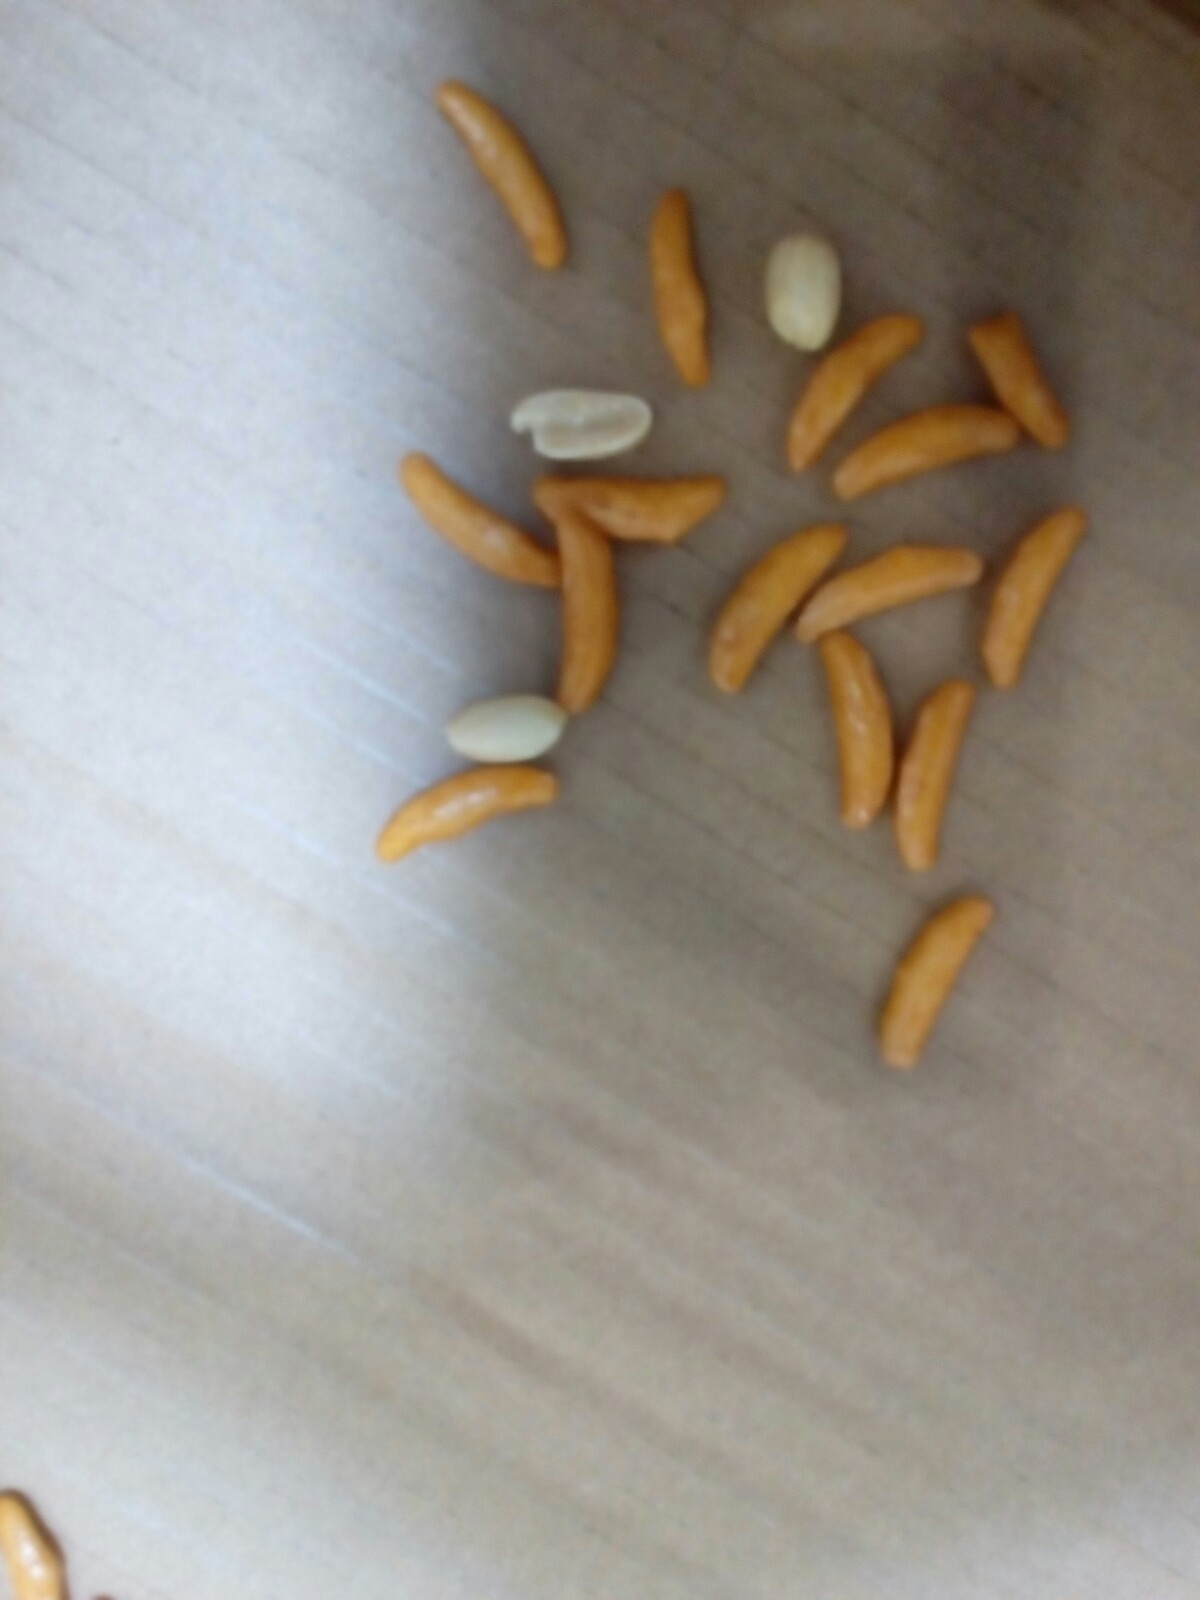peanut: (507, 372, 650, 455), (756, 223, 843, 359), (439, 682, 568, 765)
